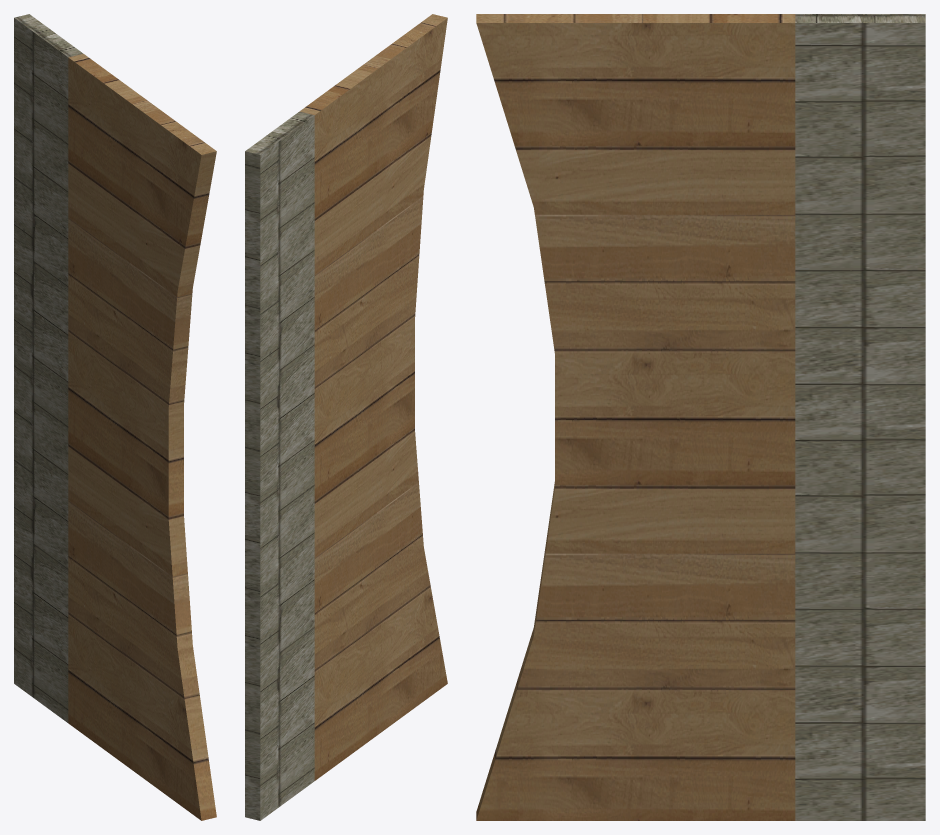
The model's file is nt_concrete_fence_156_tall_LOD1.obj.
3 renders of one model, left to right at view 1: azimuth 30°, elevation 25°; view 2: azimuth 150°, elevation 25°; view 3: azimuth 270°, elevation 25°, orthographic. The views are drawn at different scales.
Visible parts, largest first — view 1: nt_wood_fence, nt_2020_concrete_pattern_02; view 2: nt_wood_fence, nt_2020_concrete_pattern_02; view 3: nt_wood_fence, nt_2020_concrete_pattern_02.
Boxes of the visible parts, <box> form: nt_wood_fence: <box>68,54,216,820</box>; nt_2020_concrete_pattern_02: <box>14,14,83,722</box>; nt_wood_fence: <box>299,14,447,780</box>; nt_2020_concrete_pattern_02: <box>245,111,314,820</box>; nt_wood_fence: <box>476,14,795,820</box>; nt_2020_concrete_pattern_02: <box>795,14,925,820</box>.
Bounding box in the file's own units: 9.5 × 395 × 202.
